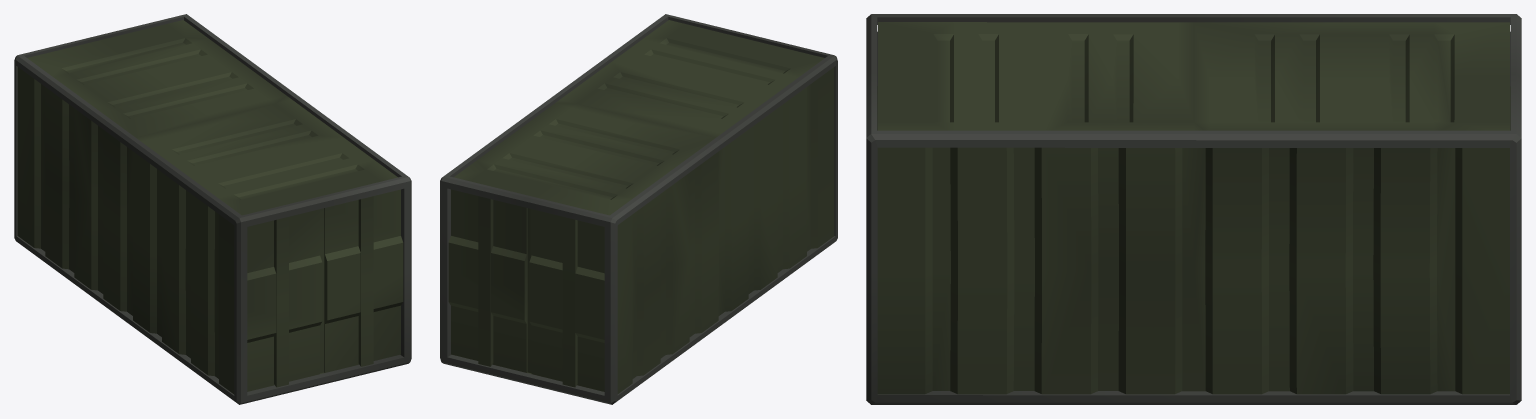
File: ct_container_g.glb
The picture shows the model from 3 angles, left to right: view 1: azimuth 30°, elevation 25°; view 2: azimuth 150°, elevation 25°; view 3: azimuth 270°, elevation 25°; orthographic projection. The views are drawn at different scales.
Parts seen in each view (by area): view 1: ct_container_g; view 2: ct_container_g; view 3: ct_container_g.
Boxes of the visible parts, box(x1,y1,x2,y2) form: ct_container_g: box(14, 14, 411, 404); ct_container_g: box(440, 14, 837, 404); ct_container_g: box(866, 14, 1521, 404).
Bounding box in the file's own units: 2.56 × 2.6 × 5.71.
